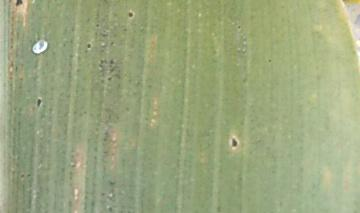tarspot: (228, 133, 240, 151), (125, 8, 137, 23), (35, 95, 44, 111), (13, 1, 27, 9), (85, 41, 93, 51), (266, 56, 274, 65), (236, 23, 242, 31), (19, 173, 24, 179), (26, 172, 31, 178)
